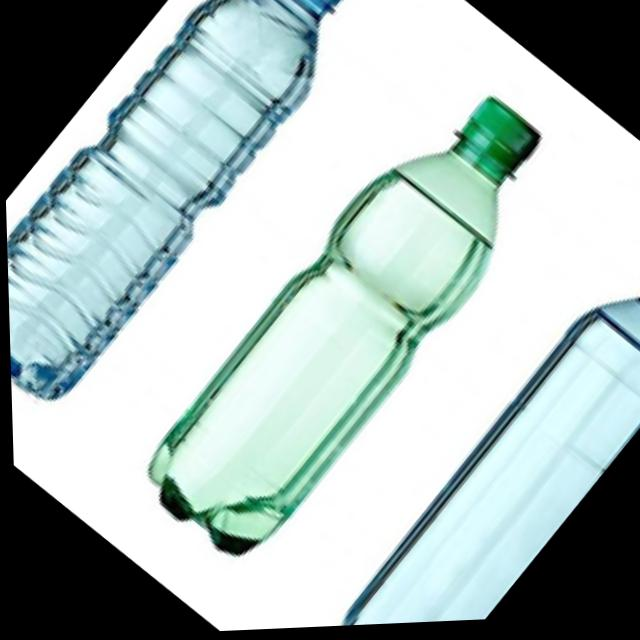plastic_water_bottles: (106, 62, 592, 591), (0, 0, 410, 422), (311, 192, 640, 629)
